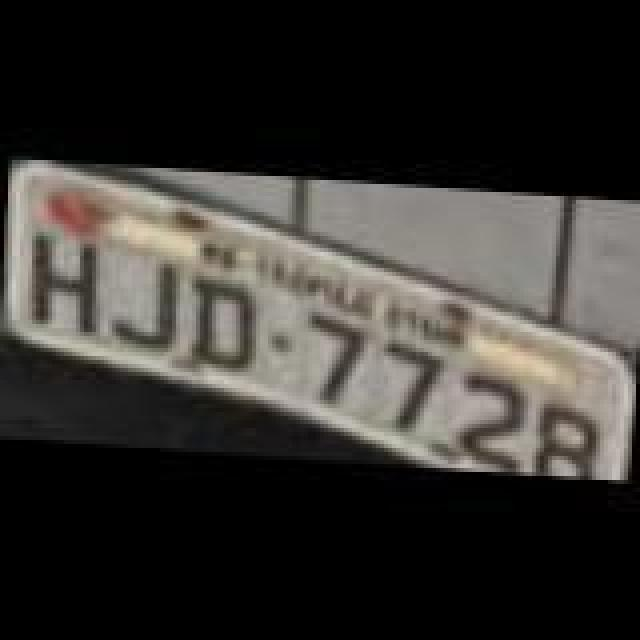2: (456, 372, 536, 476)
7: (376, 336, 448, 440), (300, 310, 372, 410)
8: (534, 398, 602, 482)
D: (186, 280, 262, 376)
H: (24, 226, 104, 334)
J: (112, 258, 184, 358)
